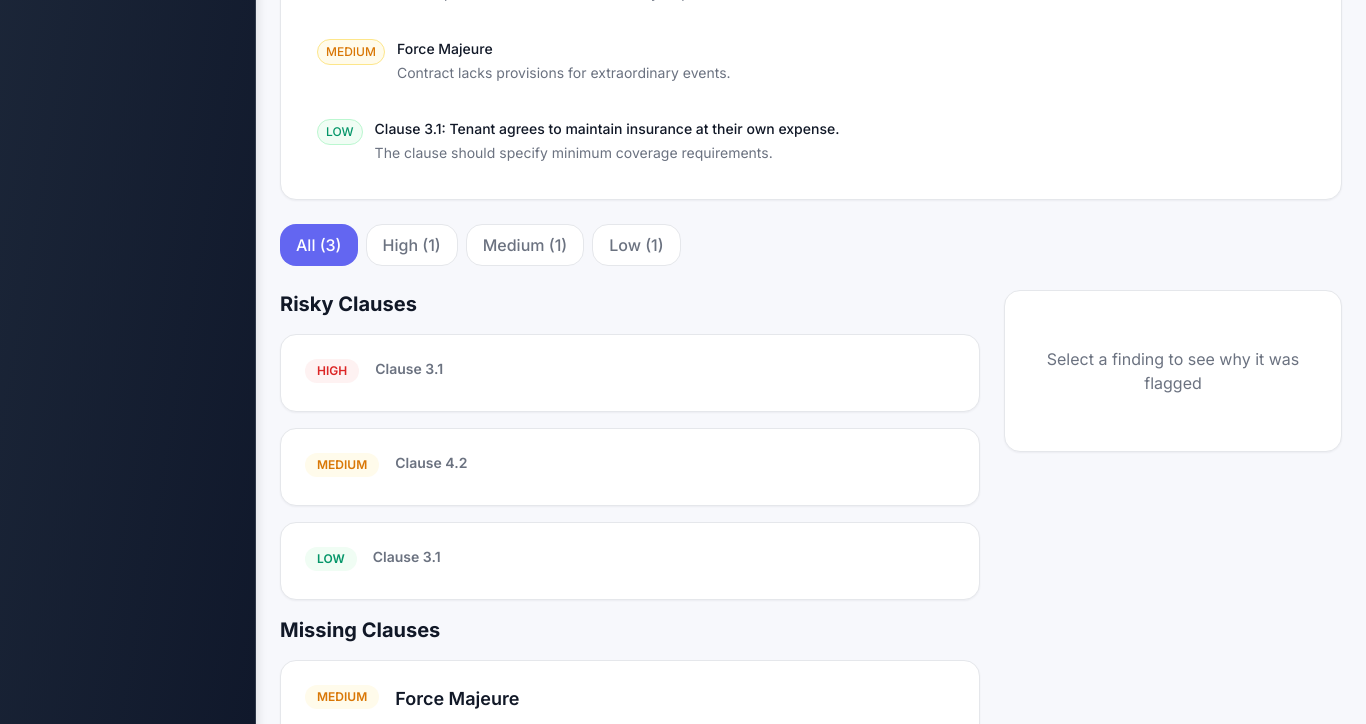
ReportView › clicking another finding replaces panel content
(page scrolled)
# Click first finding card
What coordinates should you click on to do the following:
click the element with test id "finding-card" showing "high Clause 3.1"
I would click on:
 (630, 373)
Its box is x1=280 y1=334 x2=980 y2=412.
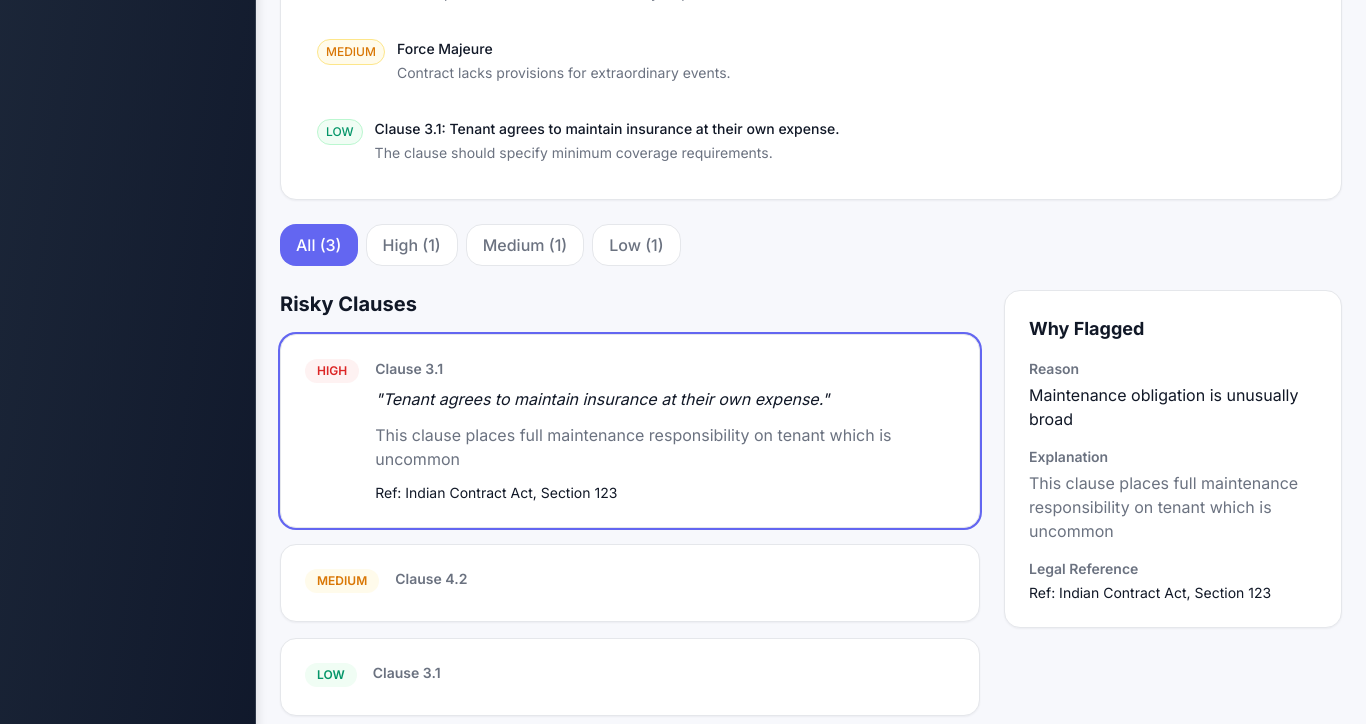
# Click second finding card
What coordinates should you click on to do the following:
click the element with test id "finding-card" showing "medium Clause 4.2"
I would click on:
 (630, 583)
Its box is x1=280 y1=544 x2=980 y2=622.
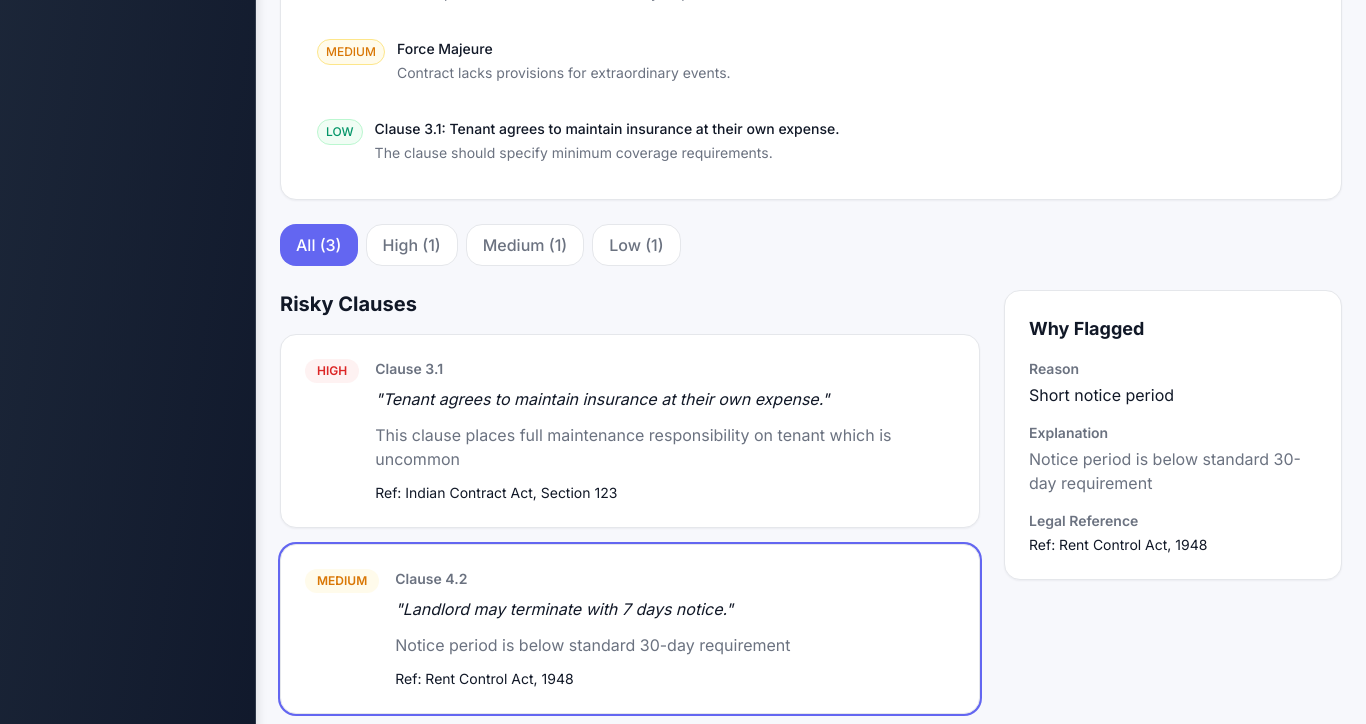
Result: the text "Maintenance obligation is unusually broad" is gone
